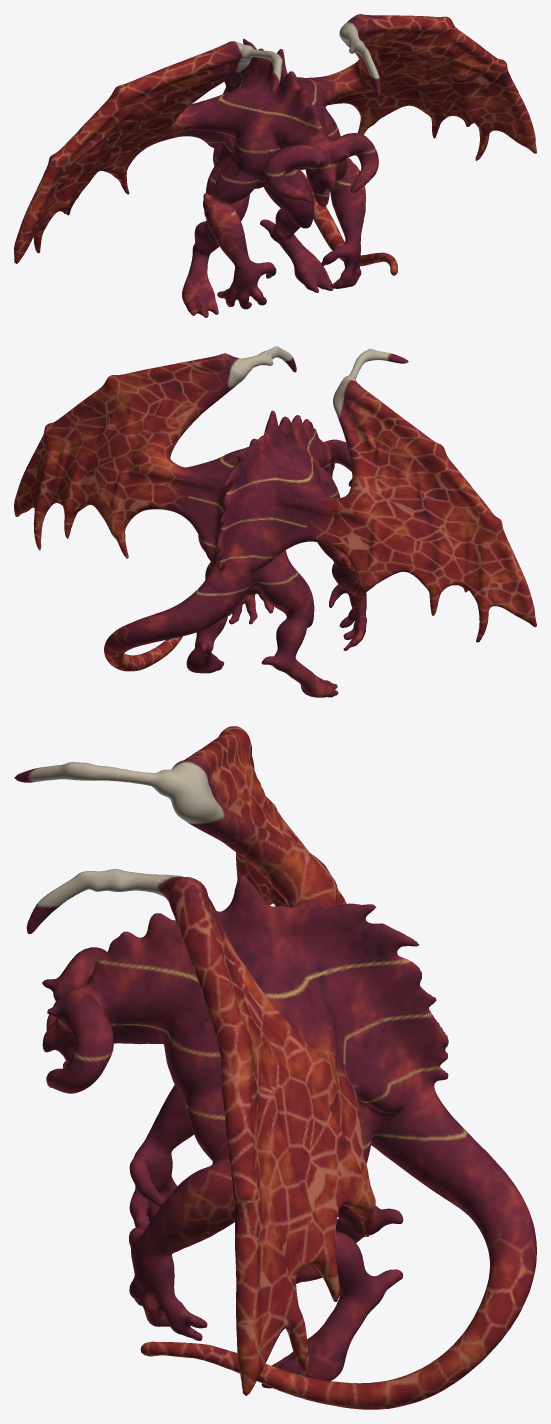
File: balrog.glb
3 renders of one model, top to bottom at view 1: azimuth 30°, elevation 25°; view 2: azimuth 150°, elevation 25°; view 3: azimuth 270°, elevation 25°, orthographic. The views are drawn at different scales.
Parts seen in each view (by area): view 1: Balrog; view 2: Balrog; view 3: Balrog.
Boxes of the visible parts, box(x1,y1,x2,y2) form: Balrog: box(14, 14, 536, 317); Balrog: box(14, 346, 536, 697); Balrog: box(14, 726, 536, 1409).
Bounding box in the file's own units: 10.91 × 6 × 5.33.
Materials: 1 (1 with a texture image).
